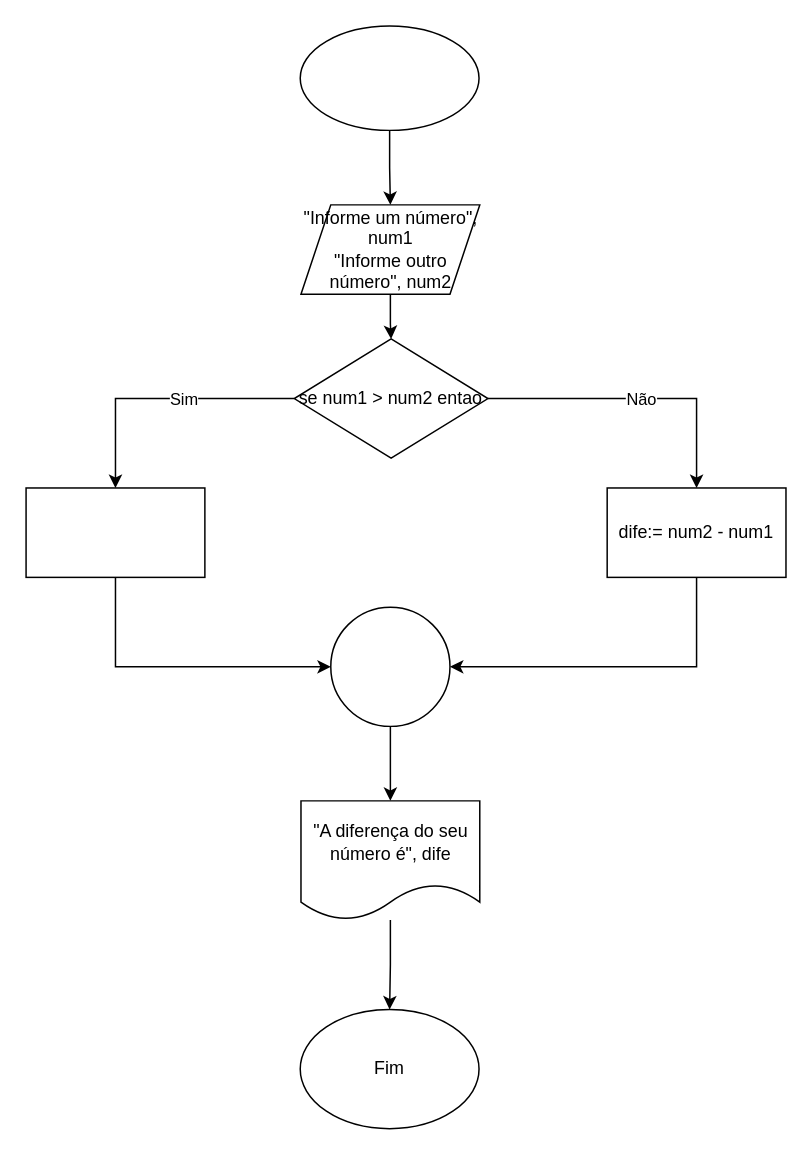
Some shapes in this 812 by 1155 pixel diagram are drawn without their labels. The shapes that lost their labels are listed below. From the top down, each one's centre as x and y in pixels, then its label:
(x=389, y=77): Inicio
(x=115, y=531): dife:= num1 - num2
